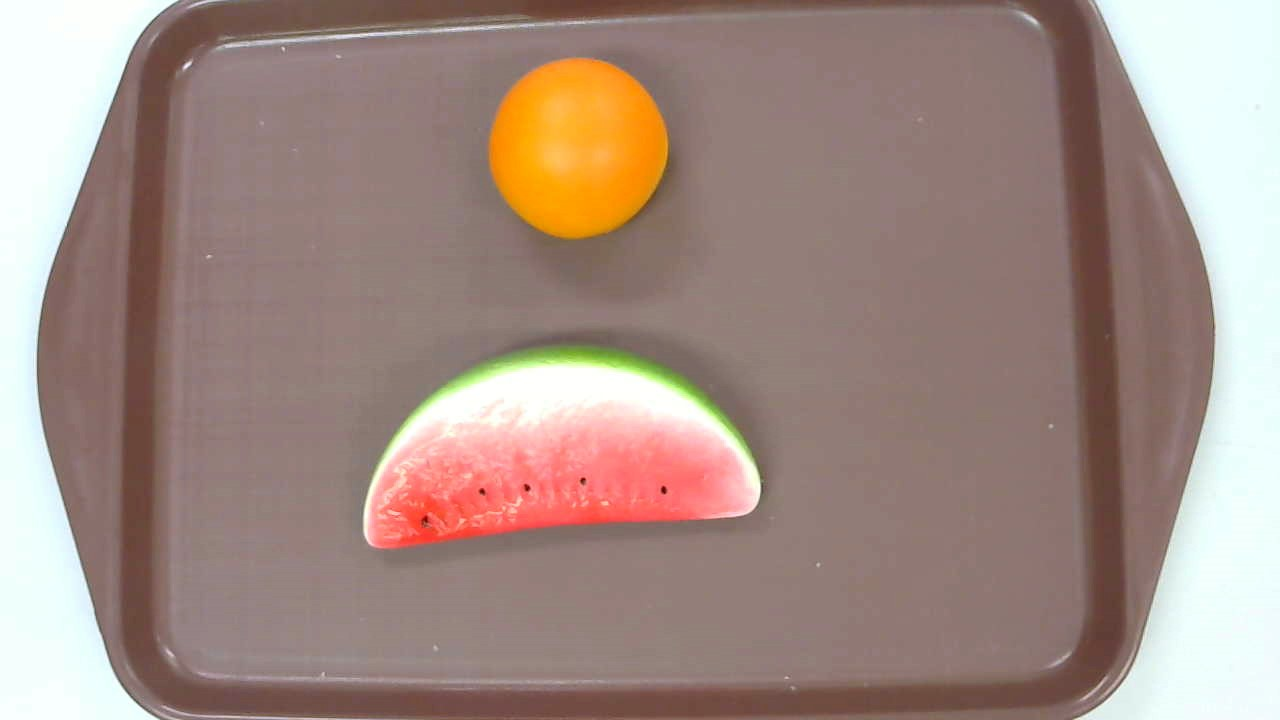bun: (487, 56, 669, 237)
water melon: (360, 343, 762, 550)
